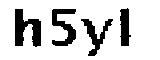5: (47, 5, 79, 52)
h: (10, 4, 43, 52)
l: (117, 6, 142, 49)
y: (77, 15, 114, 59)
